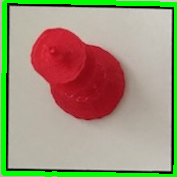Red King: (27, 23, 127, 123)
